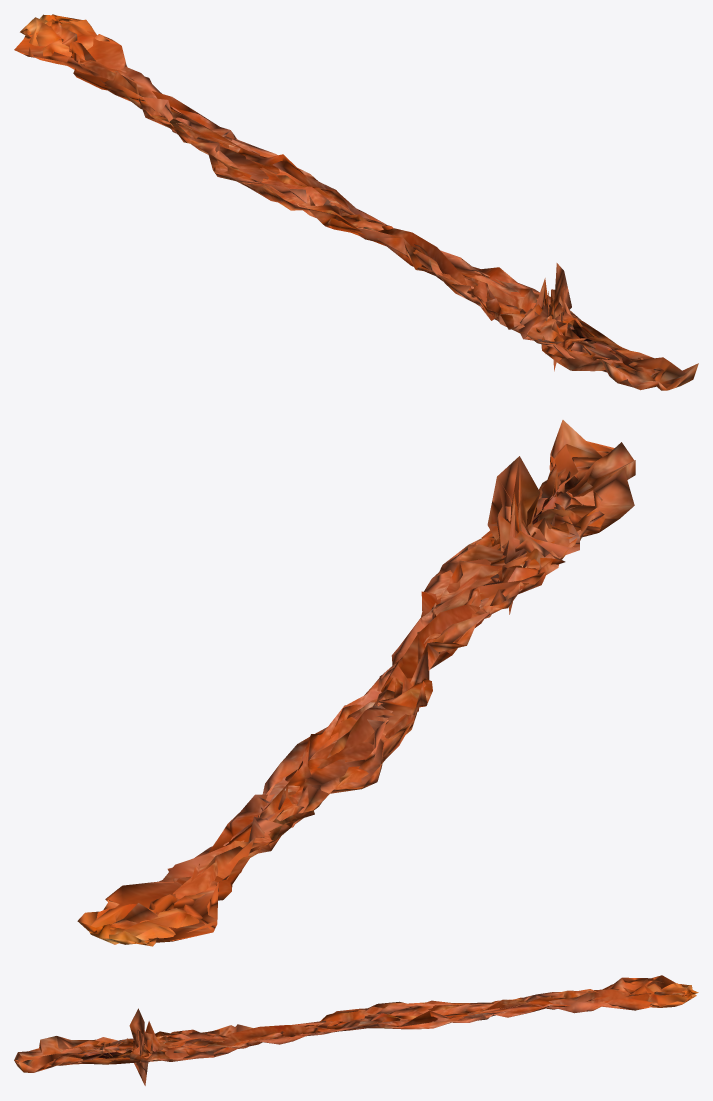
Rendered from Peeled_Carrot_with_Carrot.obj.
3 renders of one model, top to bottom at view 1: azimuth 30°, elevation 25°; view 2: azimuth 150°, elevation 25°; view 3: azimuth 270°, elevation 25°, orthographic. The views are drawn at different scales.
Parts seen in each view (by area): view 1: Peeled_Carrot_with_Carrot_carrot; view 2: Peeled_Carrot_with_Carrot_carrot; view 3: Peeled_Carrot_with_Carrot_carrot.
Part boxes in pixels (x1,y1,x2,y2): Peeled_Carrot_with_Carrot_carrot: (14, 14, 698, 390); Peeled_Carrot_with_Carrot_carrot: (77, 420, 635, 946); Peeled_Carrot_with_Carrot_carrot: (14, 975, 698, 1085).
Bounding box in the file's own units: 0.3619 × 0.1837 × 1.47.
Materials: 1 (1 with a texture image).
